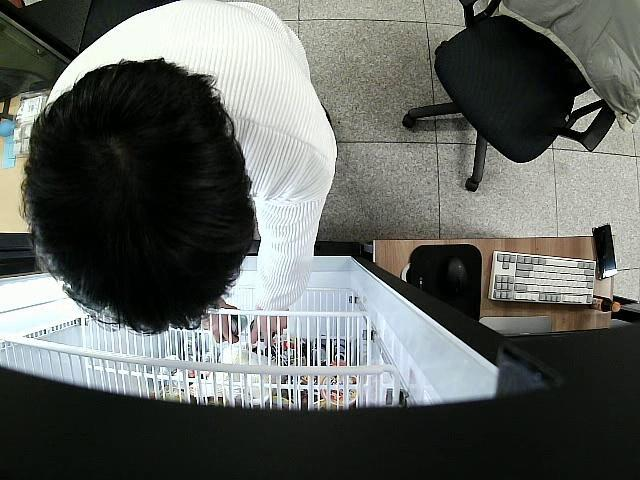12_chilsungCider: (232, 314, 246, 334)
